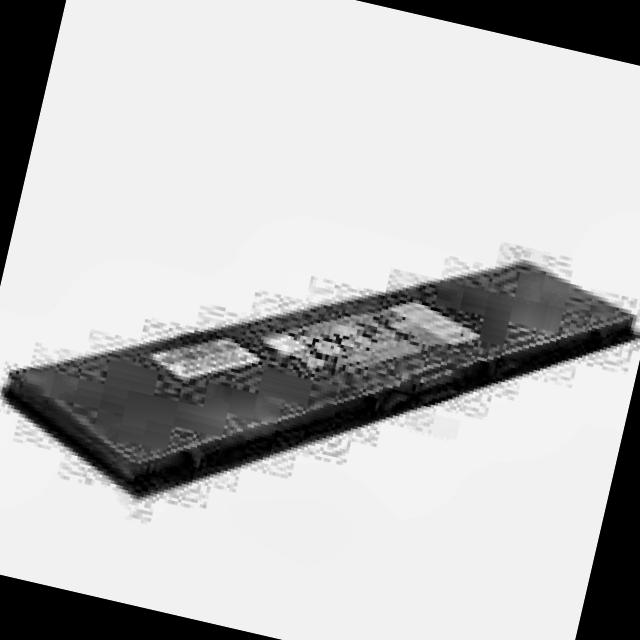Battery: (0, 159, 638, 592)
